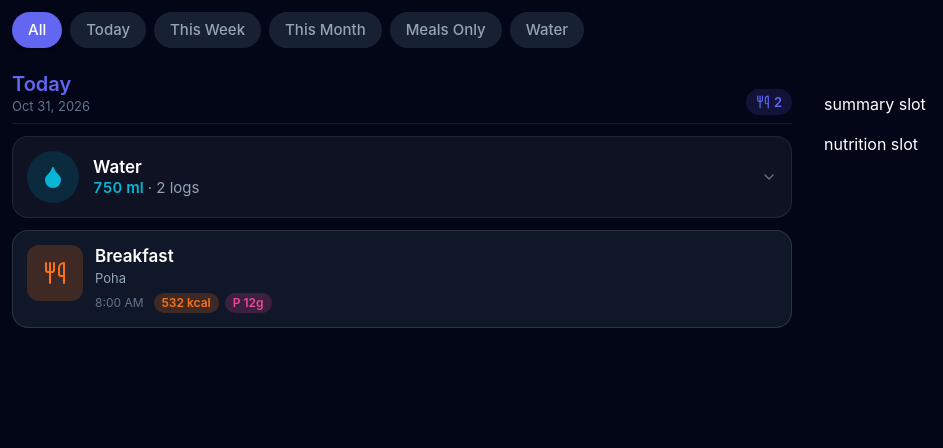
Test: FoodLogFeed › renders a day section with meal cards and one folded water card
Check: the text "summary slot" is shown, box 824,94 -> 926,114
Check: the text "nutrition slot" is shown, box 824,134 -> 918,154
What coordinates should you click on to do the following:
click the button with aria-label "water, 750 ml, 2 logs"
I would click on:
 (53, 177)
Its box is 13,137 -> 791,217.
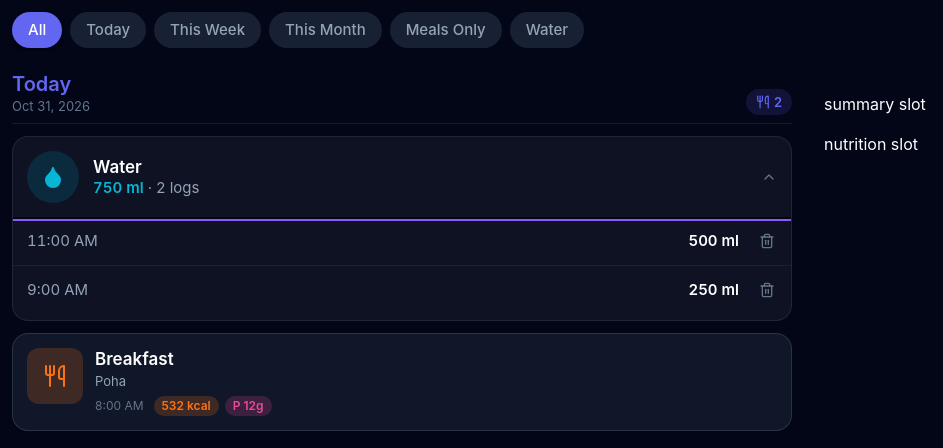
Check: the number of list items with test id "water-log-row" is 2, box 13,217 -> 791,265; 13,265 -> 791,314
